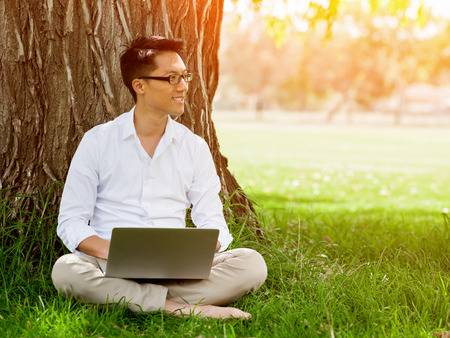F_shirt: (55, 109, 234, 266)
